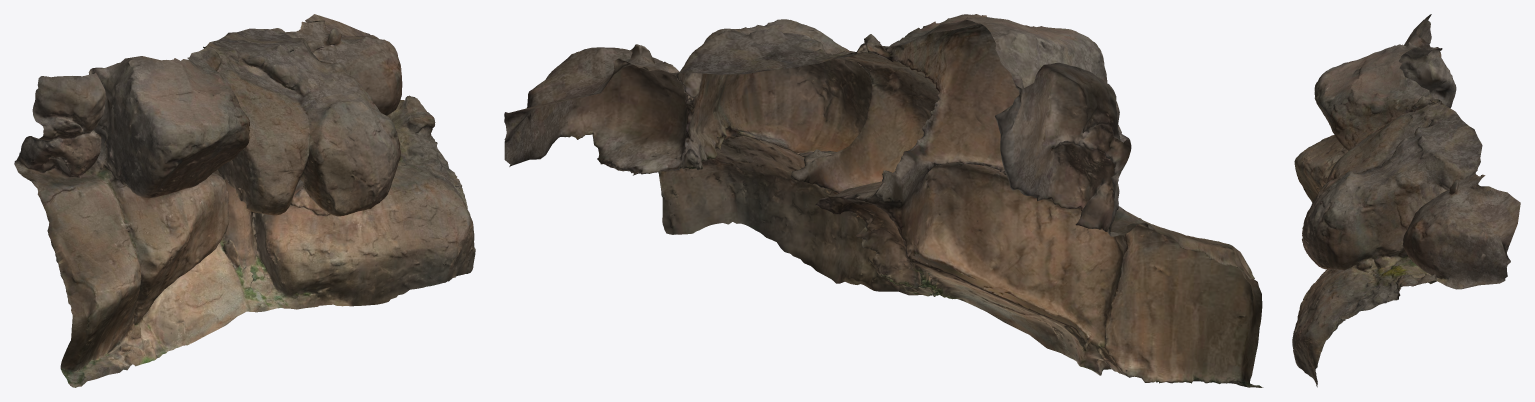
Rendered from namaqualand_cliff_01.glb.
The picture shows the model from 3 angles, left to right: view 1: azimuth 30°, elevation 25°; view 2: azimuth 150°, elevation 25°; view 3: azimuth 270°, elevation 25°; orthographic projection. The views are drawn at different scales.
Visible parts, largest first — view 1: drone_rock_01; view 2: drone_rock_01; view 3: drone_rock_01.
Part boxes in pixels (bbox=[...]): drone_rock_01: bbox=[14, 14, 475, 387]; drone_rock_01: bbox=[504, 14, 1263, 387]; drone_rock_01: bbox=[1292, 14, 1520, 387].
Bounding box in the file's own units: 8.28 × 4.96 × 4.39.
1 material, 1 textured.
